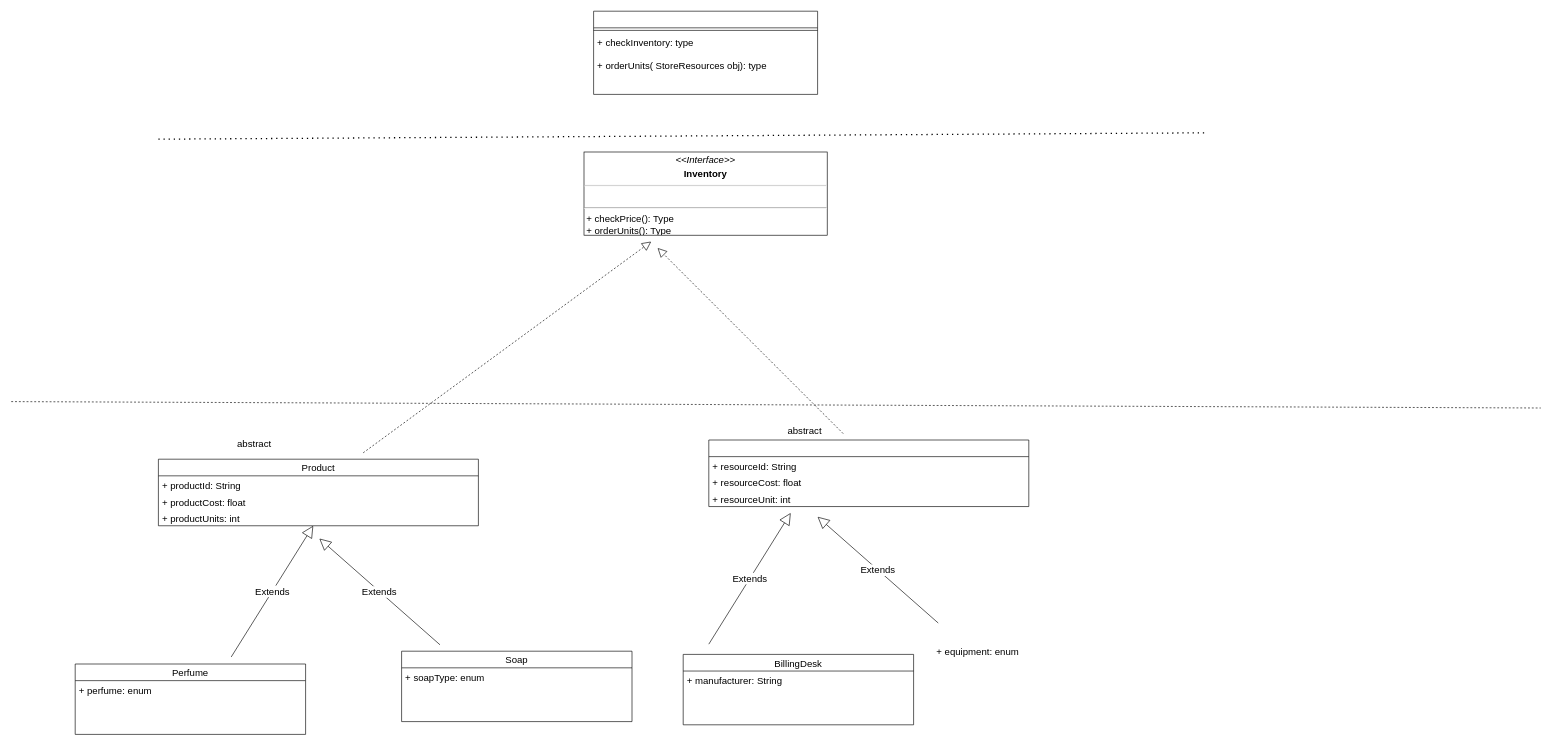
Image size: 1553x748. Some labels were removed from this diagram. Here are the shapes that lost their labels. From the top down, the box of each, then its label:
(593, 11, 818, 94): Operations
(708, 439, 1029, 507): StoreResources
